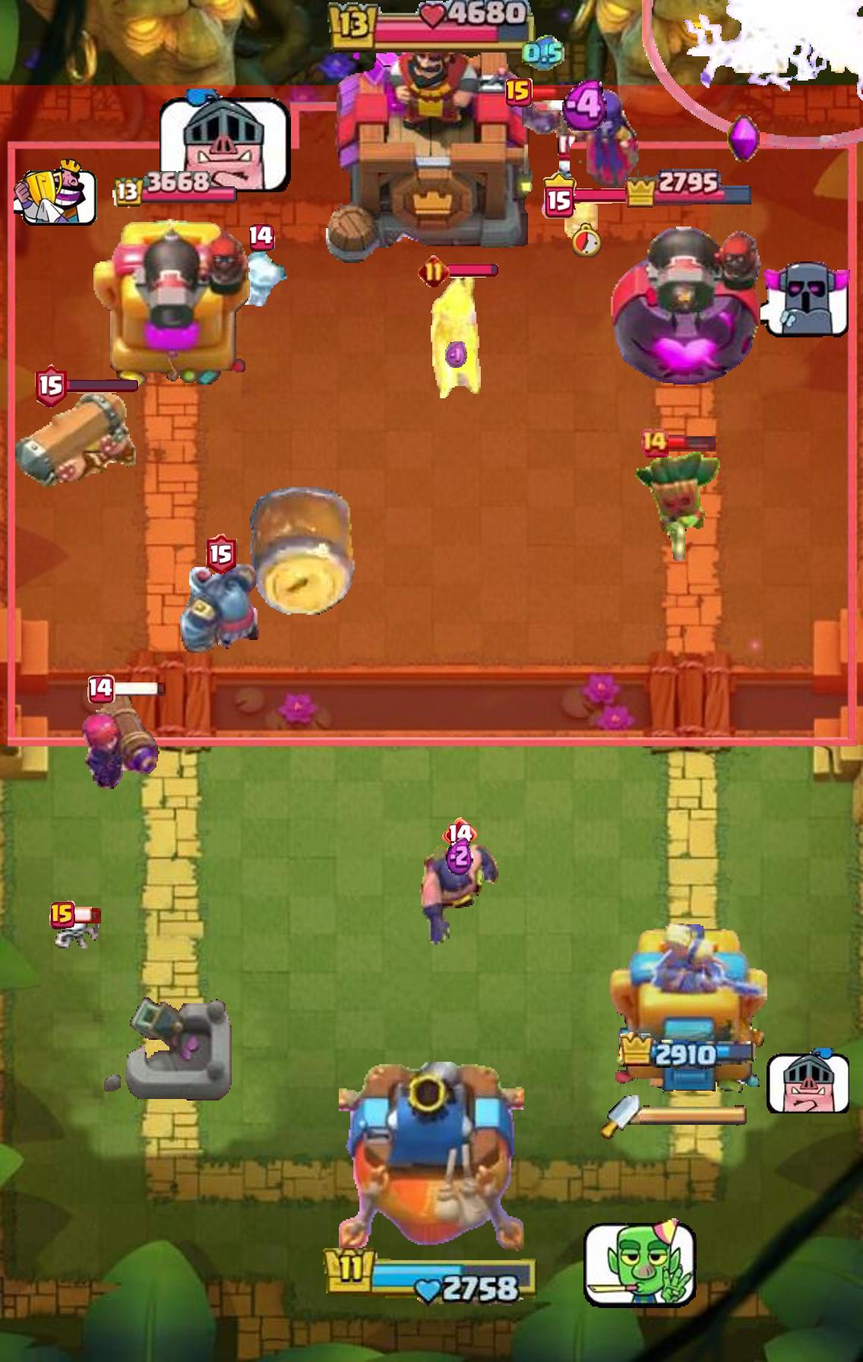elixir: (561, 79, 614, 130), (522, 35, 564, 72), (446, 835, 473, 876), (445, 340, 469, 370)
